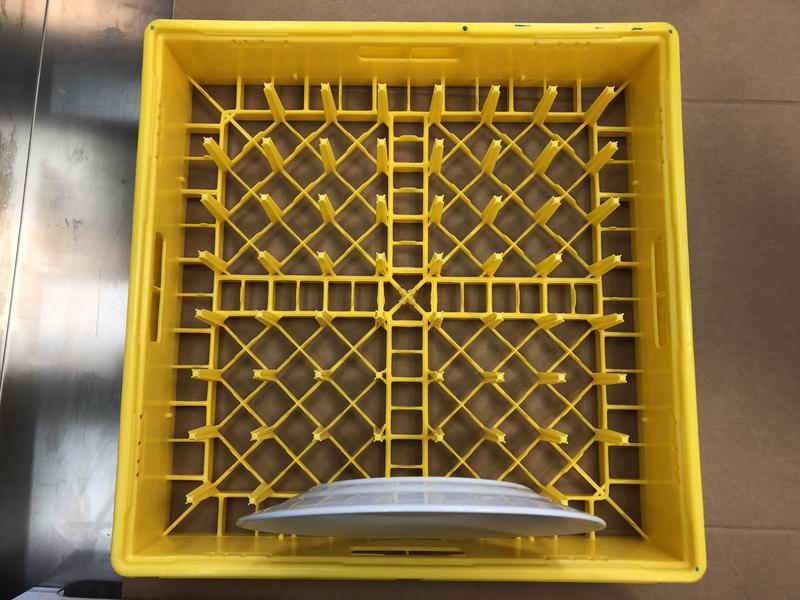Dish: (233, 478, 607, 545)
